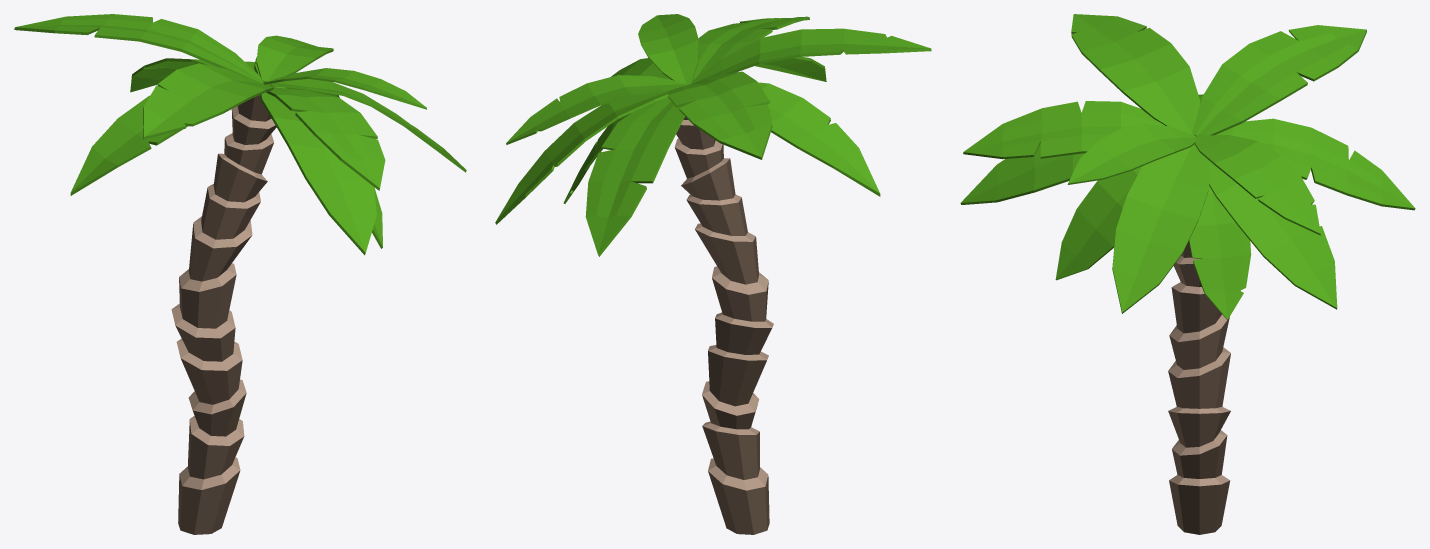
File: Isl_5_Palm_1.fbx
The picture shows the model from 3 angles, left to right: view 1: azimuth 30°, elevation 25°; view 2: azimuth 150°, elevation 25°; view 3: azimuth 270°, elevation 25°; orthographic projection. The views are drawn at different scales.
Visible parts, largest first — view 1: Isl_5_Palm_1; view 2: Isl_5_Palm_1; view 3: Isl_5_Palm_1.
Boxes of the visible parts, x1,y1,x2,y2 form: Isl_5_Palm_1: [14, 14, 466, 534]; Isl_5_Palm_1: [495, 14, 931, 534]; Isl_5_Palm_1: [960, 14, 1415, 534].
Bounding box in the file's own units: 599 × 674 × 761.
Materials: 1 (1 with a texture image).
